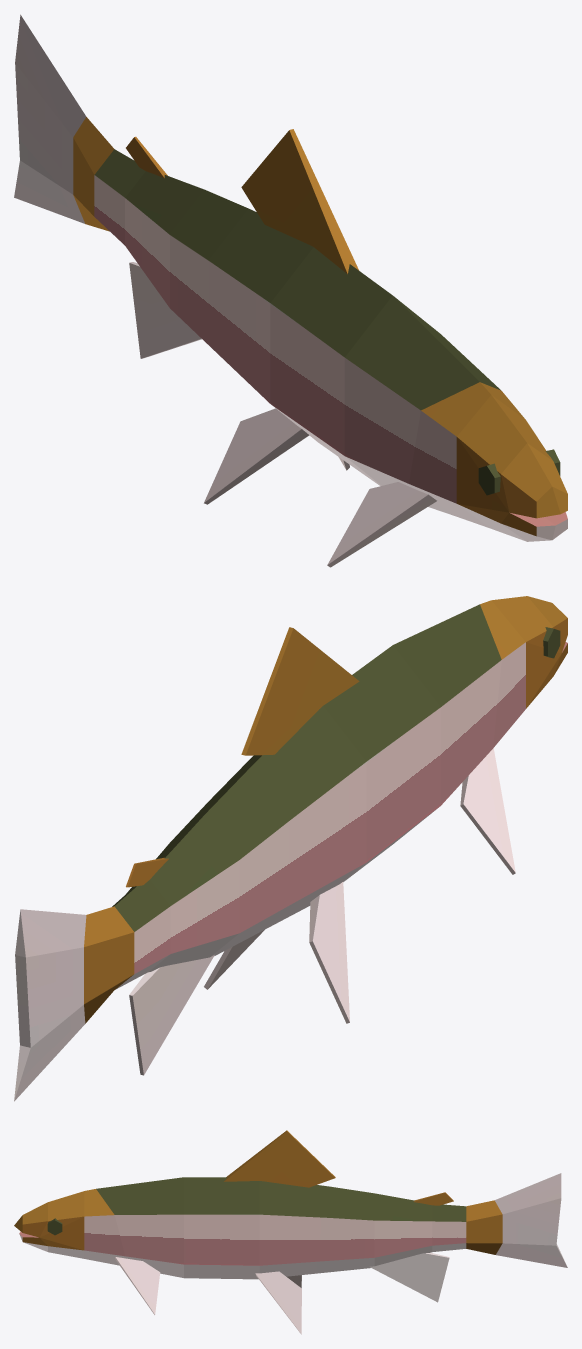
Rendered from animals-trout-199.glb.
3 views of the same model, one above another, from view 1: azimuth 30°, elevation 25°; view 2: azimuth 150°, elevation 25°; view 3: azimuth 270°, elevation 25° (orthographic). The views are drawn at different scales.
Parts seen in each view (by area): view 1: Geo_Trout; view 2: Geo_Trout; view 3: Geo_Trout.
Boxes of the visible parts, <box> form: Geo_Trout: <box>14,14,567,567</box>; Geo_Trout: <box>14,596,567,1101</box>; Geo_Trout: <box>14,1130,567,1334</box>.
Bounding box in the file's own units: 12.14 × 22.67 × 60.93.
Materials: 1 (1 with a texture image).
